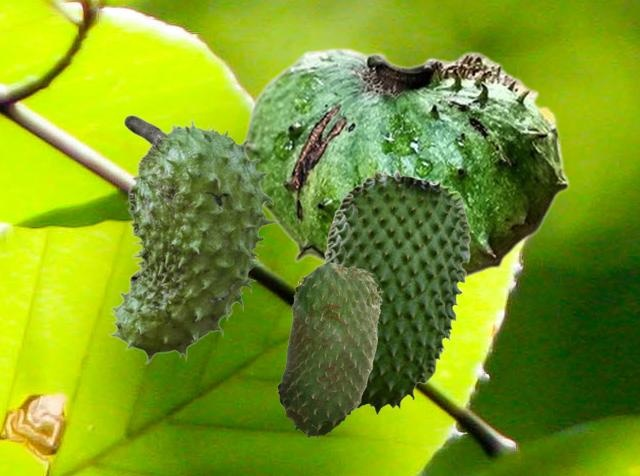guyabano: (240, 47, 569, 283), (107, 114, 279, 364), (324, 169, 470, 414), (276, 260, 382, 438)
